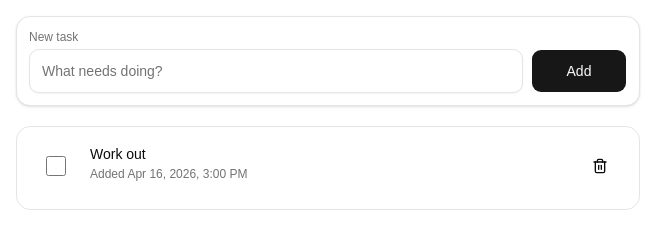
Test: TodoApp › toggles completion with PATCH and shows Done metadata
Expected: the text "Work out" is shown, [90, 146, 146, 162]
Click the checkbox labelled "Work out Added Apr 16, 2026, 3:00 PM": (56, 166) [46, 156, 66, 176]
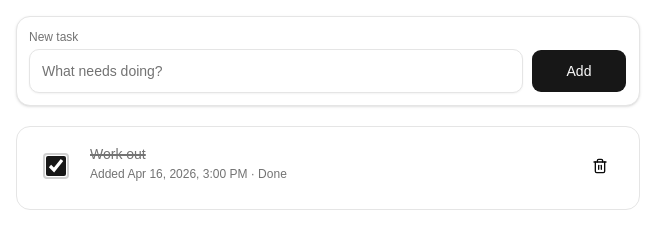
Result: the text "Added Apr 16, 2026, 3:00 PM · Done" is shown at [90, 167, 287, 181]
